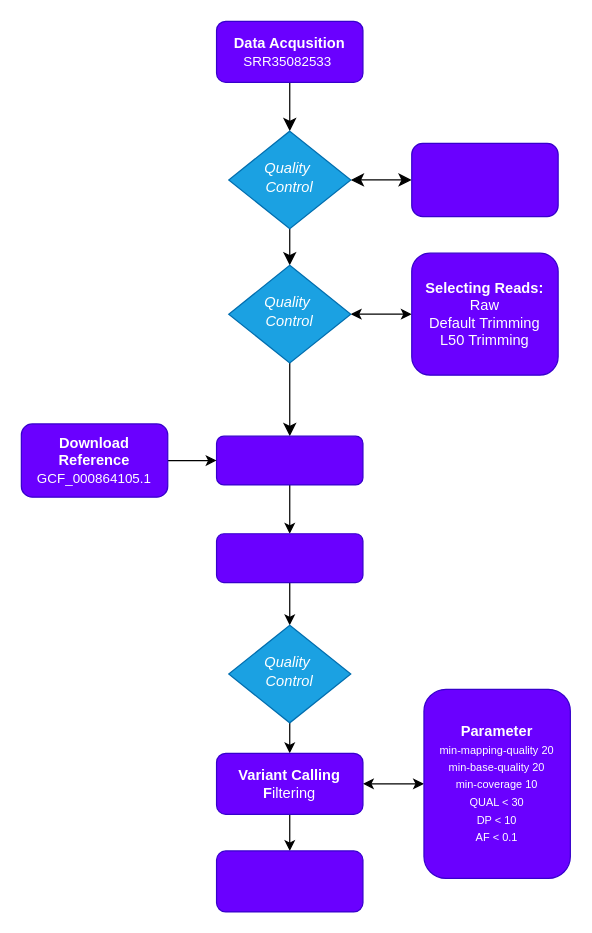
Some shapes in this 592 by 933 pixel diagram are drawn without their labels. The centre of each missing label's shape, as x and y in pixels:
"Alignment and Mapping" goes at point (289, 558).
"Annotation Customizing SnpEff Variant Annotation" goes at point (289, 881).
"Referencing and Indexing" goes at point (289, 460).
"Trimming: Default Trimming l50 Trimming" goes at point (484, 179).
